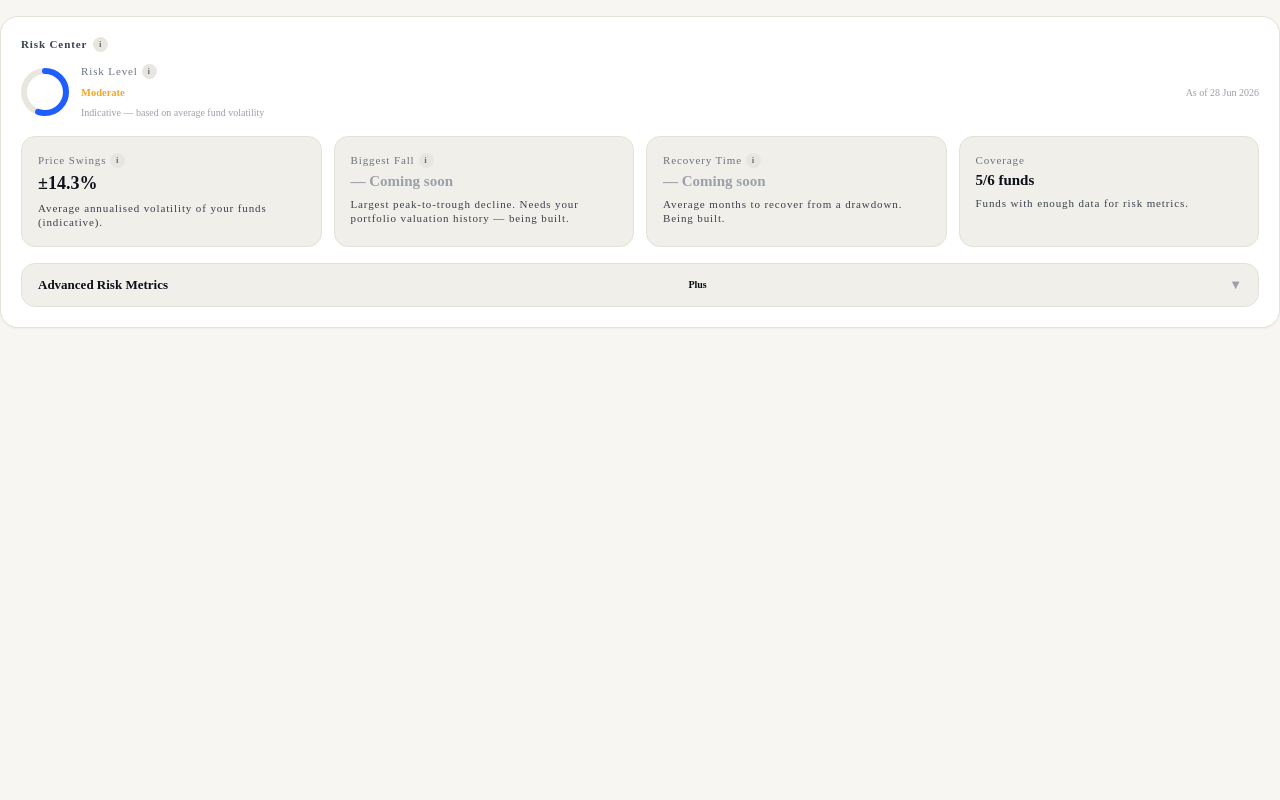
Test: HelpTip wiring › RiskSection: Sharpe Ratio KPI HelpTip renders with fieldTooltip text and focus reveals it
# Open the advanced panel
Click the button "Advanced Risk Metrics Plus ▼" at (103, 284), box [21,263,1259,307]
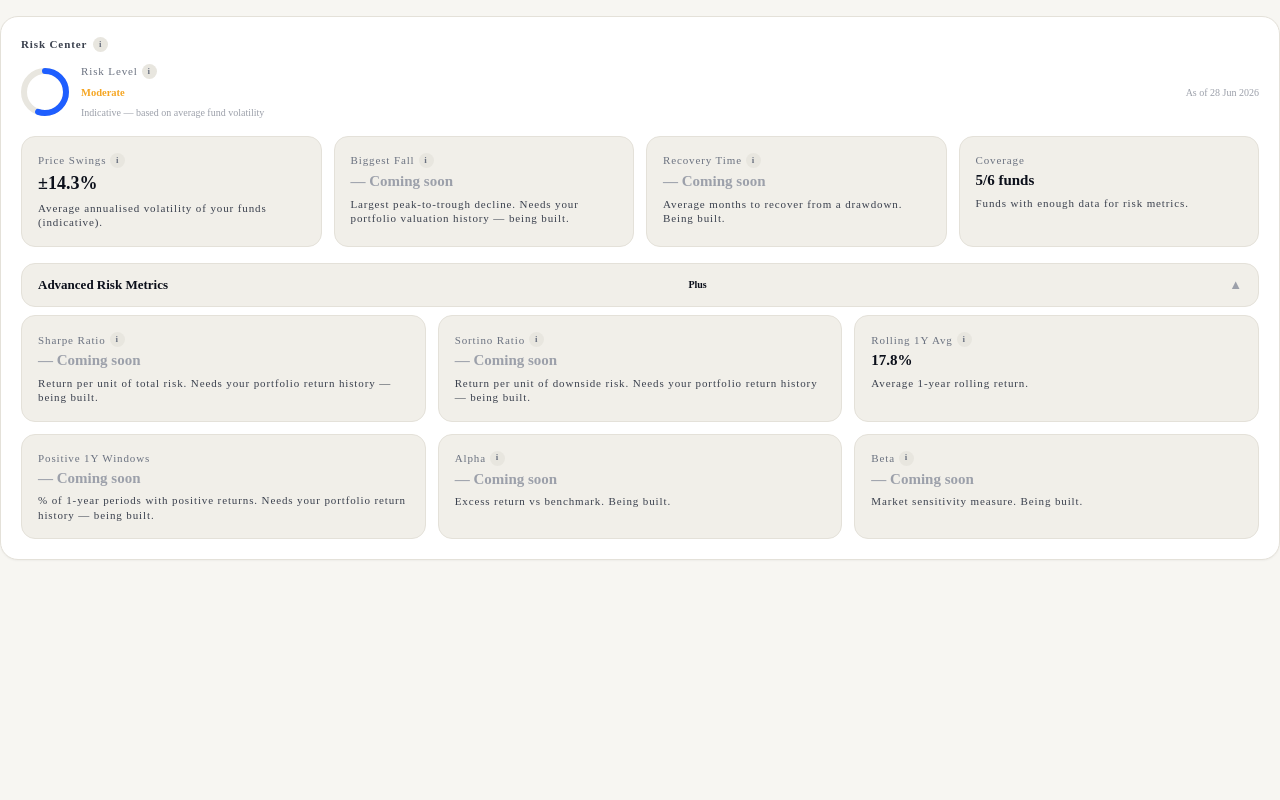
Focus the button "i" next to "Sharpe Ratio" at (117, 340), box [110,332,125,347]
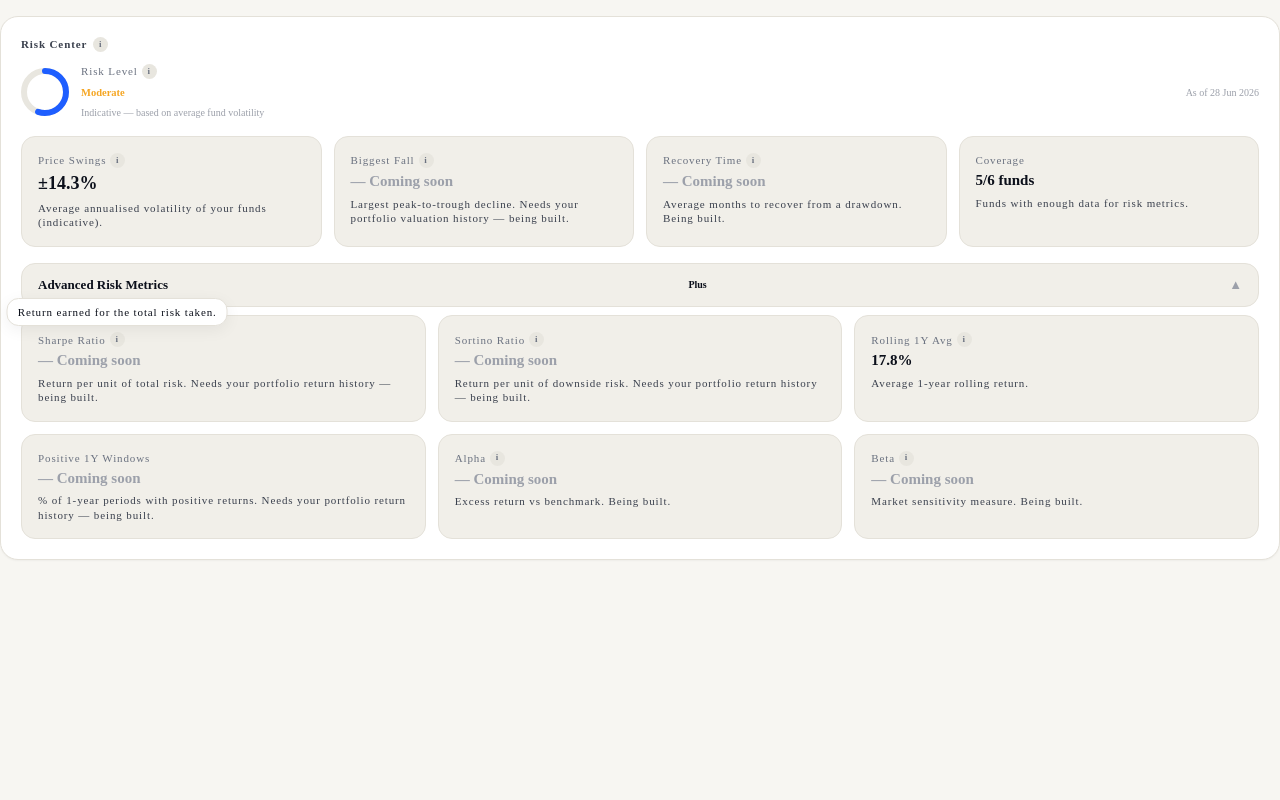
Expected: the tooltip "Return earned for the total risk taken." is shown, [7,298,228,326]
